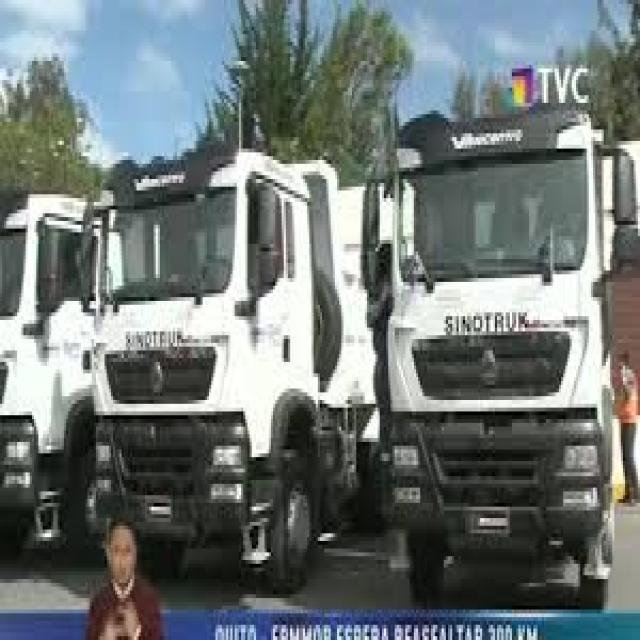TRUCK: (382, 18, 638, 610), (93, 144, 344, 581)
